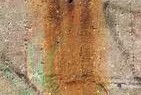Corrosion: (41, 1, 108, 95)
